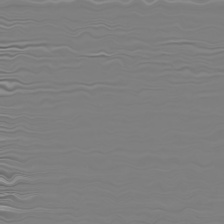cavities: (47, 67, 110, 133)
